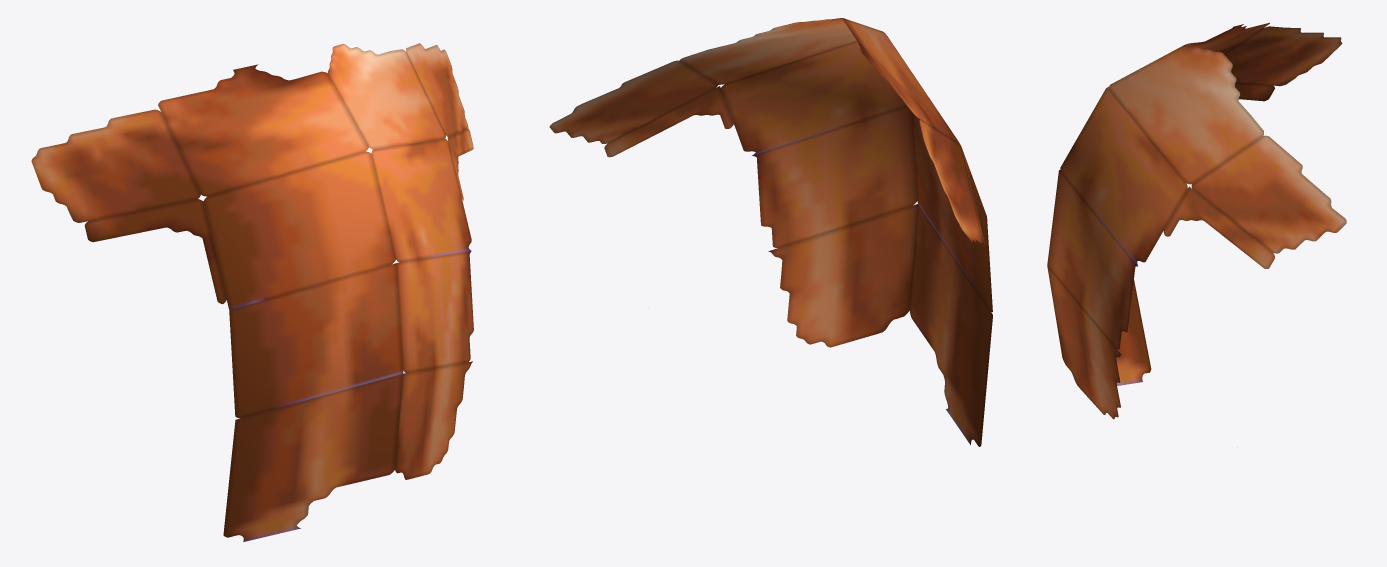
The picture shows the model from 3 angles, left to right: view 1: azimuth 30°, elevation 25°; view 2: azimuth 150°, elevation 25°; view 3: azimuth 270°, elevation 25°; orthographic projection. The views are drawn at different scales.
Parts seen in each view (by area): view 1: T1L2M008_36; view 2: T1L2M008_36; view 3: T1L2M008_36.
Part boxes in pixels (bbox=[...]): T1L2M008_36: bbox=[31, 43, 473, 541]; T1L2M008_36: bbox=[549, 18, 992, 446]; T1L2M008_36: bbox=[1047, 22, 1346, 419].
Bounding box in the file's own units: 0.9072 × 0.9834 × 0.6787.
1 material, 1 textured.
